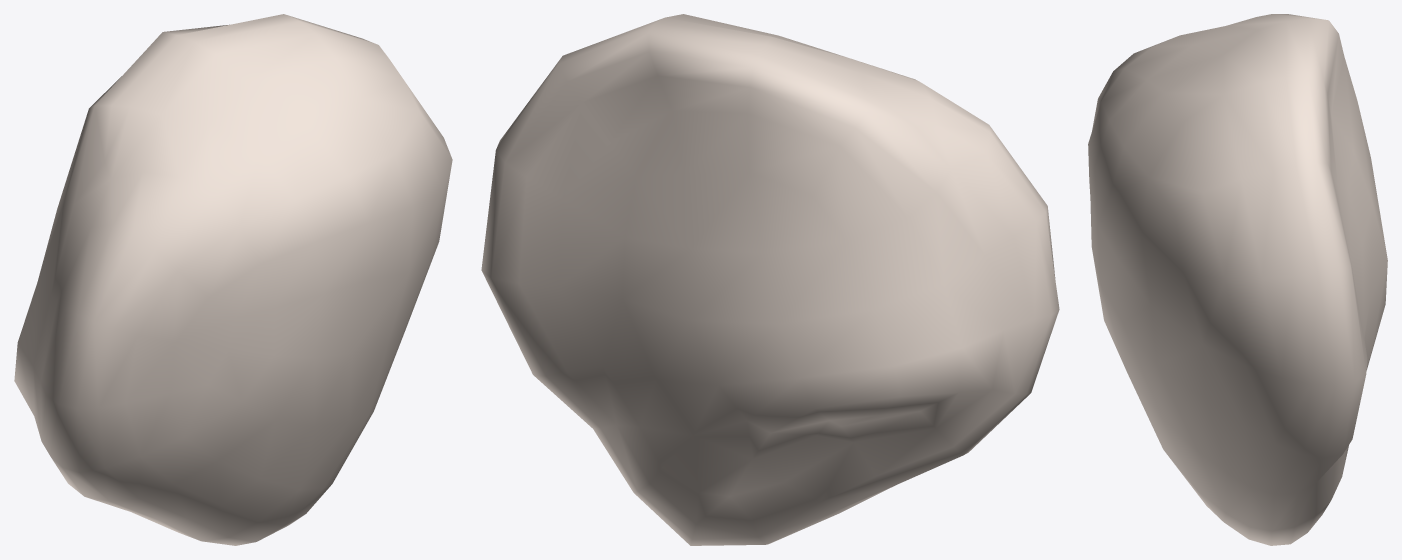
The model's file is frau2-1044.glb.
3 views of the same model, side by side, from view 1: azimuth 30°, elevation 25°; view 2: azimuth 150°, elevation 25°; view 3: azimuth 270°, elevation 25° (orthographic). The views are drawn at different scales.
Parts seen in each view (by area): view 1: VH_F_patella_L; view 2: VH_F_patella_L; view 3: VH_F_patella_L.
Boxes of the visible parts, x1,y1,x2,y2 form: VH_F_patella_L: (14, 14, 452, 545); VH_F_patella_L: (481, 14, 1059, 545); VH_F_patella_L: (1088, 14, 1387, 545).
Size of the model in its own units: 0.0455 by 0.0472 by 0.0262.
